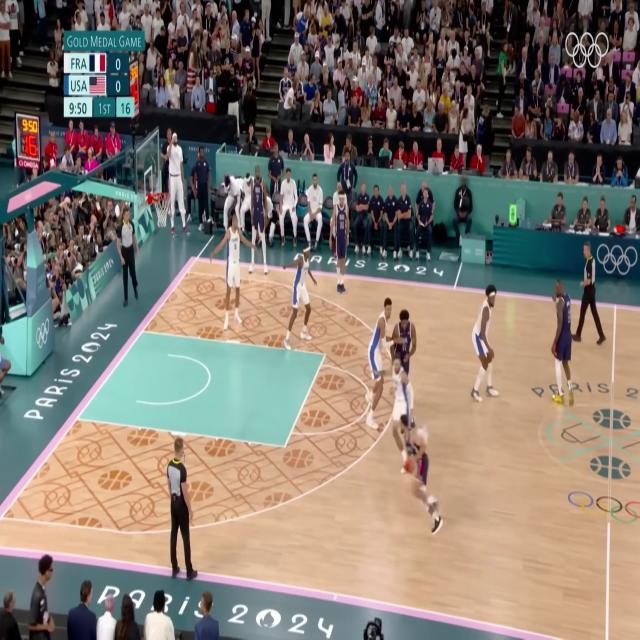ball-handler: (399, 409, 447, 541)
player: (211, 211, 256, 336), (468, 283, 506, 410), (277, 237, 318, 353), (360, 292, 393, 429), (549, 277, 578, 411), (330, 189, 352, 295), (249, 163, 269, 278), (386, 348, 418, 414), (391, 303, 421, 367)
